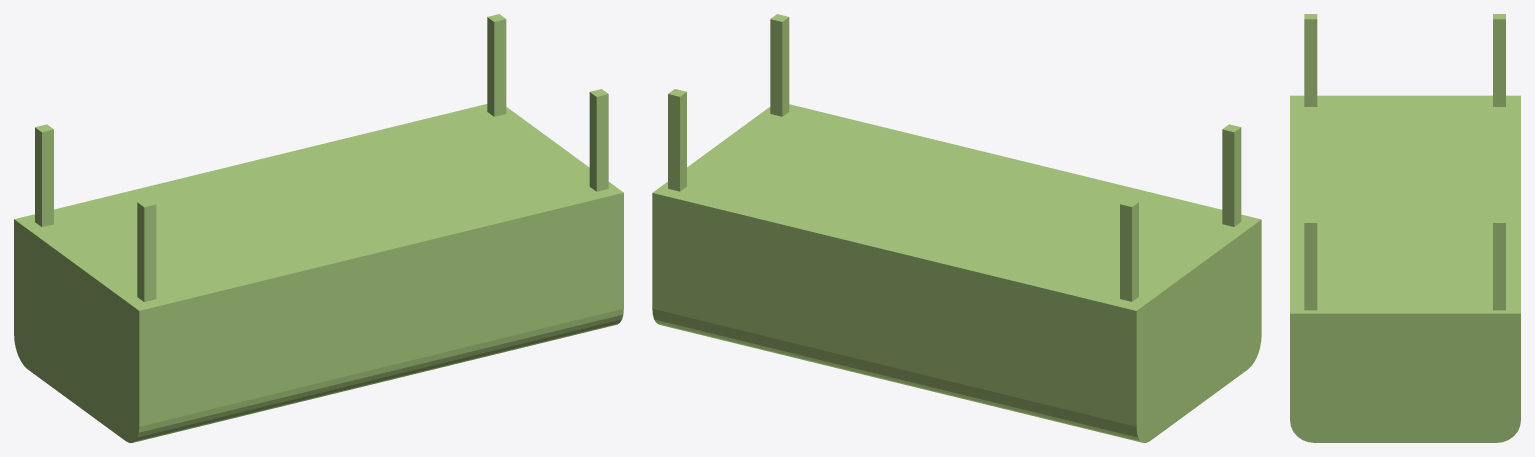
Rendered from duct_straight.fbx.
3 renders of one model, left to right at view 1: azimuth 30°, elevation 25°; view 2: azimuth 150°, elevation 25°; view 3: azimuth 270°, elevation 25°, orthographic. The views are drawn at different scales.
Visible parts, largest first — view 1: Cube; view 2: Cube; view 3: Cube.
Part boxes in pixels (x1=…): Cube: x1=14, y1=14, x2=623, y2=442; Cube: x1=652, y1=14, x2=1261, y2=442; Cube: x1=1290, y1=14, x2=1520, y2=442.
Size of the model in its own units: 400 by 185 by 179.
